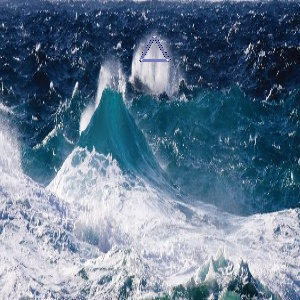triangle: (137, 33, 173, 64)
